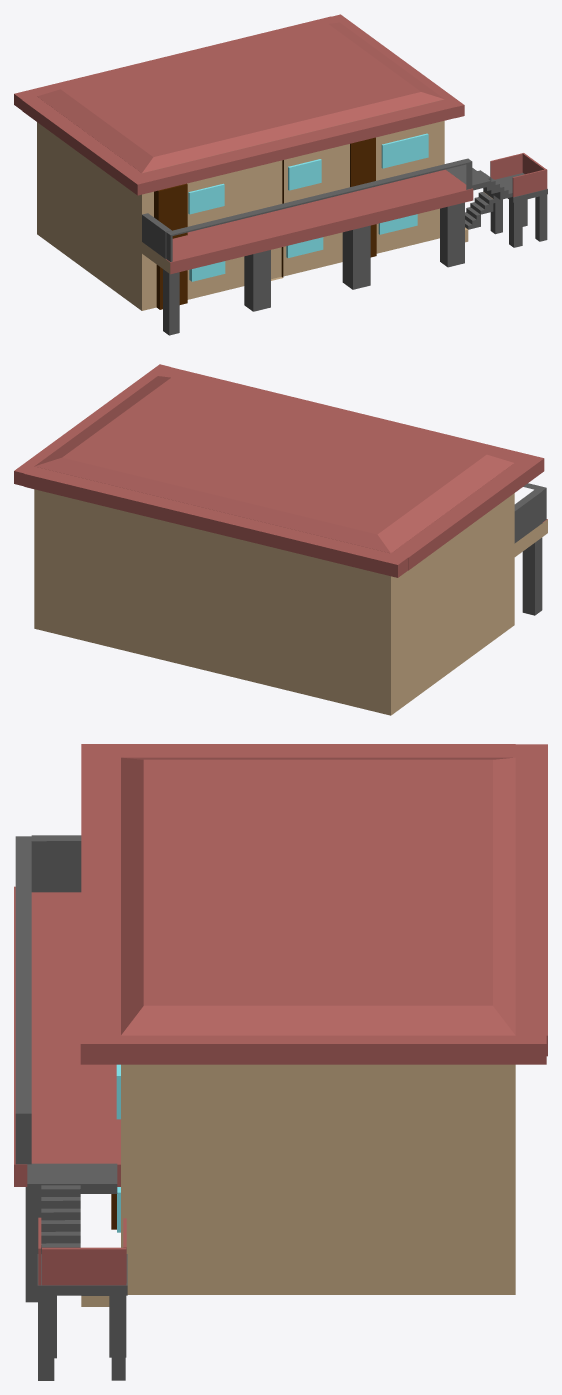
The model's file is Motel .fbx.
The picture shows the model from 3 angles, top to bottom: view 1: azimuth 30°, elevation 25°; view 2: azimuth 150°, elevation 25°; view 3: azimuth 270°, elevation 25°; orthographic projection. The views are drawn at different scales.
Visible parts, largest first — view 1: Cube; view 2: Cube; view 3: Cube.
Boxes of the visible parts, box(x1,y1,x2,y2) form: Cube: box(14, 14, 547, 335); Cube: box(14, 364, 547, 715); Cube: box(14, 744, 547, 1380).
Bounding box in the file's own units: 6583 × 2390 × 4058.
